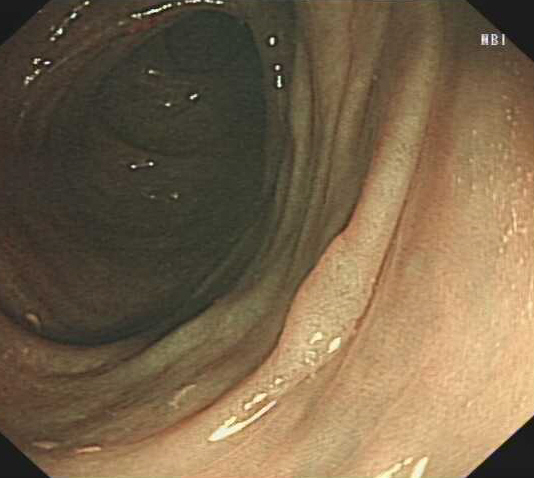others: (271, 230, 375, 381)
